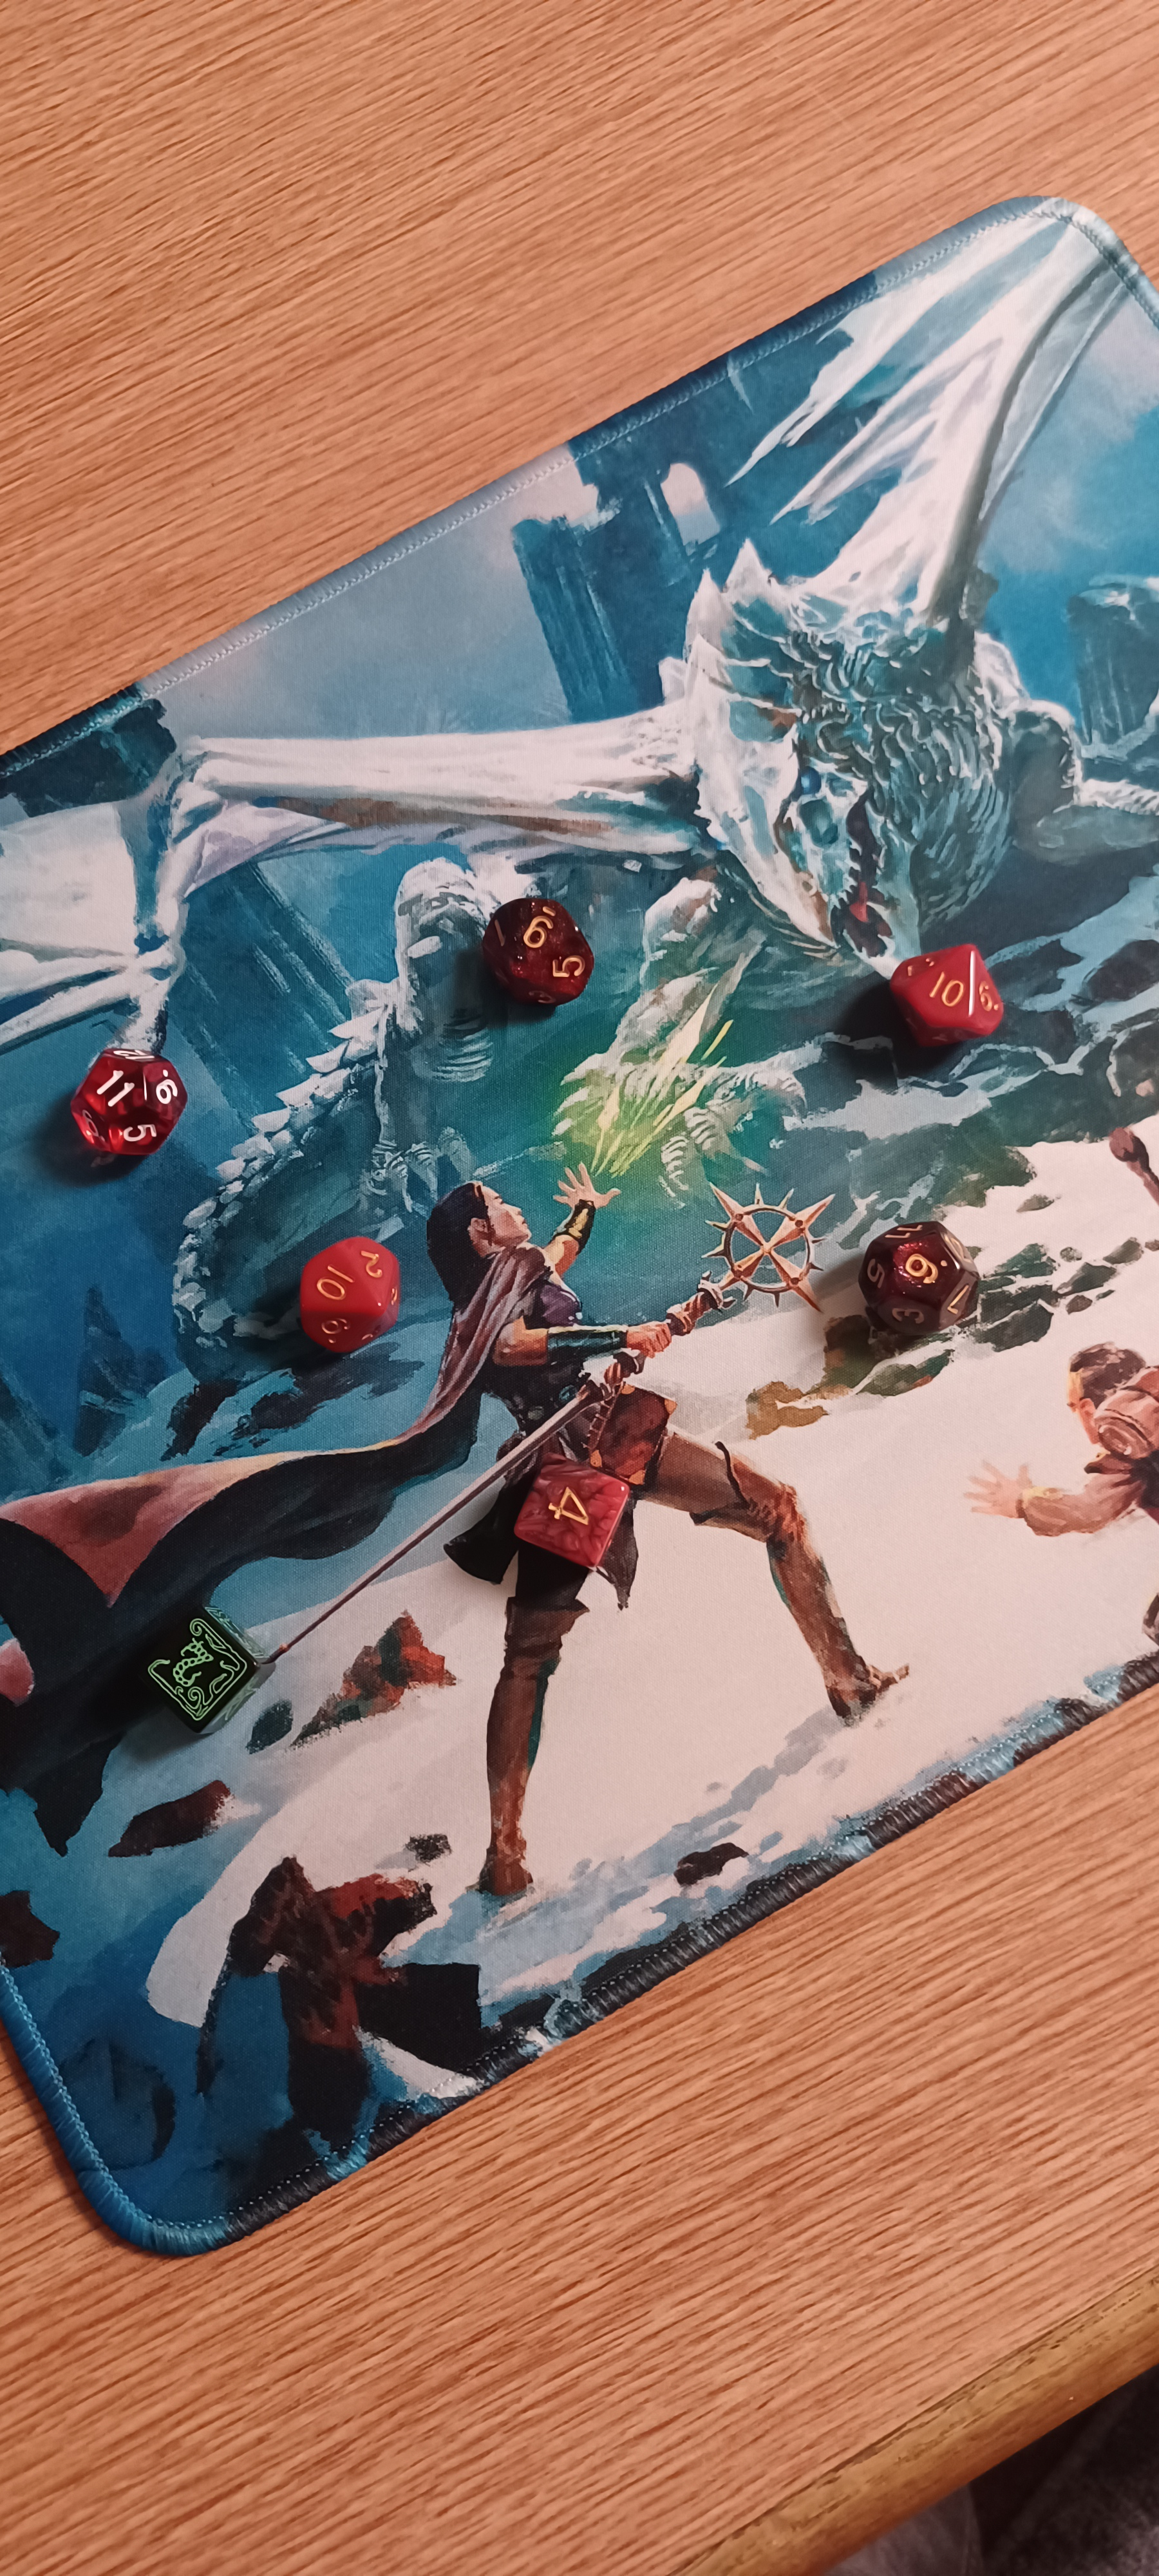eleven: (31, 1014, 197, 1166)
four: (483, 1424, 662, 1602)
nine: (804, 1178, 1019, 1375), (455, 867, 602, 1023)
ten: (849, 890, 1036, 1102), (256, 1212, 447, 1391)
two: (117, 1582, 295, 1755)
